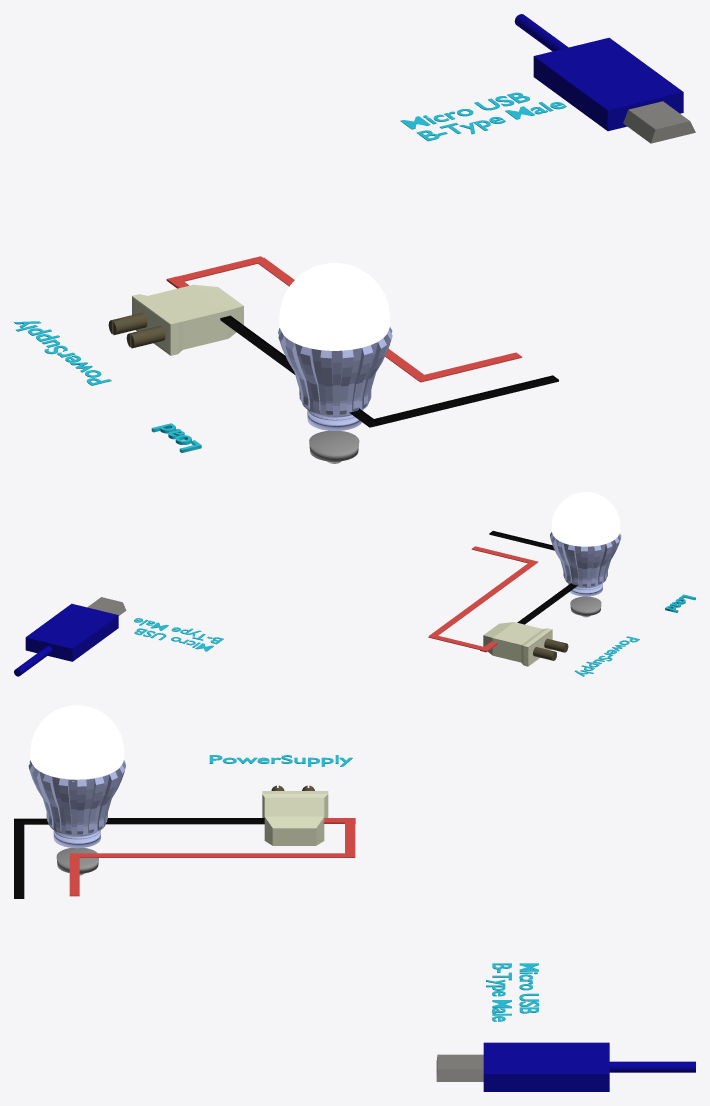
Rendered from image.gltf.
The picture shows the model from 3 angles, top to bottom: view 1: azimuth 30°, elevation 25°; view 2: azimuth 150°, elevation 25°; view 3: azimuth 270°, elevation 25°; orthographic projection. The views are drawn at different scales.
Parts seen in each view (by area): view 1: Cube.001, Sphere, Cube, Cylinder, Text.002, Plane.003, Cylinder.003, Text, Plane.005, Plane.009, Plane.010; view 2: Cube.001, Sphere, Cube, Cylinder, Text.002, Plane.009, Cylinder.003, Text, Plane.005, Plane.003, Plane.010; view 3: Cube.001, Sphere, Cylinder, Cube, Text.002, Plane.009, Plane.005, Plane.003, Text, Cylinder.003.
Boxes of the visible parts, x1,y1,x2,y2 form: Cube.001: (514,14,695,143); Sphere: (279,263,390,350); Cube: (108,284,243,355); Cylinder: (278,327,392,414); Text.002: (400,92,566,141); Plane.003: (365,375,558,426); Cylinder.003: (309,430,359,462); Text: (14,321,111,385); Plane.005: (220,315,294,374); Plane.009: (257,257,428,381); Plane.010: (415,352,522,382); Cube.001: (14,597,126,676); Sphere: (551,492,620,546); Cube: (483,622,568,666); Cylinder: (550,532,621,586); Text.002: (134,618,223,651); Plane.009: (429,561,537,636); Cylinder.003: (570,596,601,616); Text: (574,636,639,676); Plane.005: (517,583,577,624); Plane.003: (489,531,554,550); Plane.010: (471,546,537,564); Cube.001: (436,1042,695,1091); Sphere: (30,705,124,781); Cylinder: (28,760,125,834); Cube: (262,785,328,845); Text.002: (486,963,539,1021); Plane.009: (72,853,351,857); Plane.005: (106,818,264,824); Plane.003: (14,819,24,898); Text: (209,755,352,766); Cylinder.003: (56,848,98,874).
Bounding box in the file's own units: 13.27 × 3.25 × 12.26.
